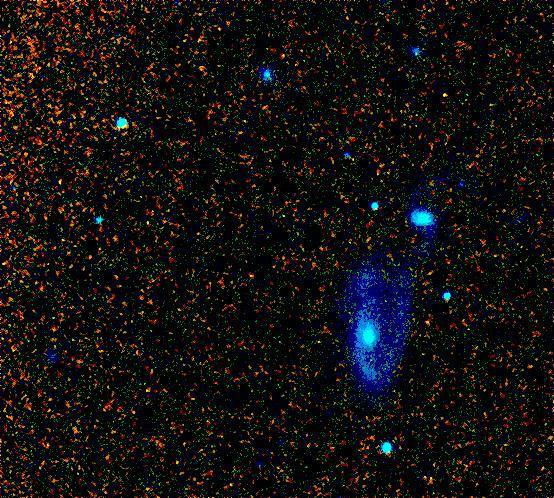star: (356, 345, 386, 375)
